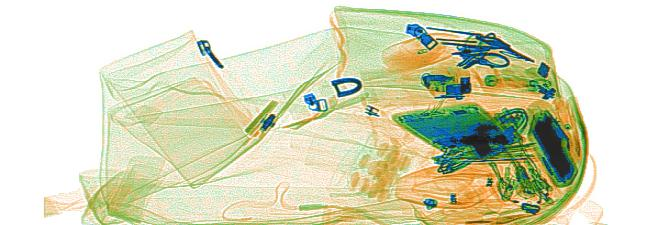plasticBottleWithaNozzle: (379, 31, 463, 76)
